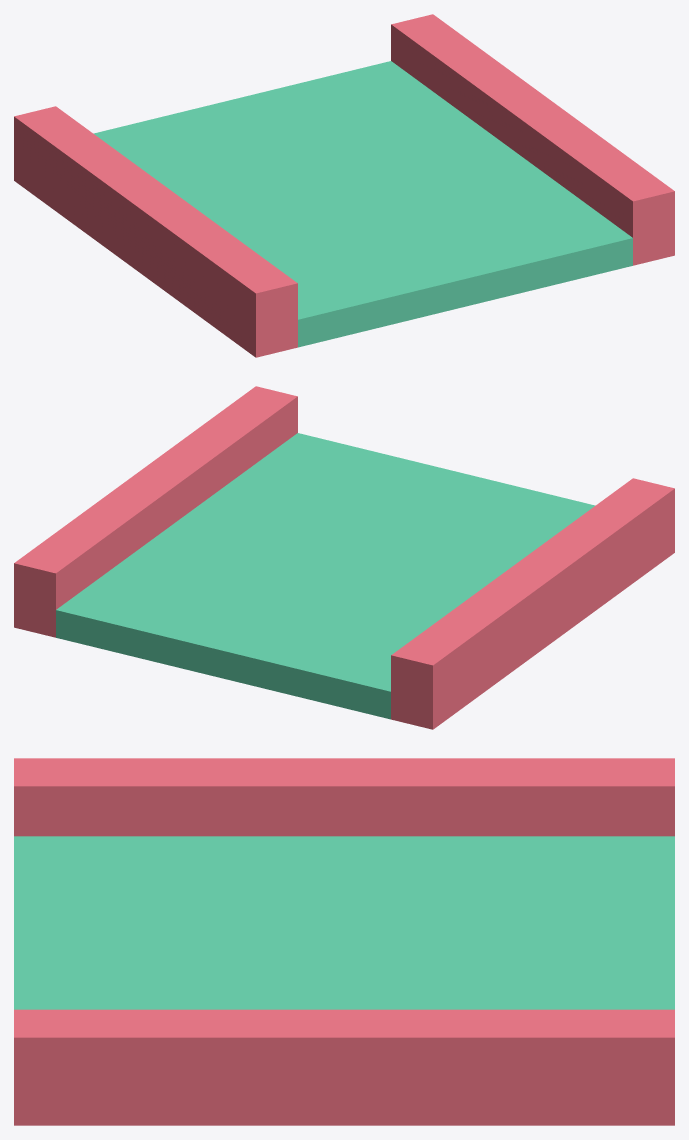
Rendered from straight.glb.
3 renders of one model, top to bottom at view 1: azimuth 30°, elevation 25°; view 2: azimuth 150°, elevation 25°; view 3: azimuth 270°, elevation 25°, orthographic. The views are drawn at different scales.
Visible parts, largest first — view 1: straight; view 2: straight; view 3: straight.
Boxes of the visible parts, x1,y1,x2,y2 form: straight: (14, 14, 674, 357); straight: (14, 386, 674, 729); straight: (14, 758, 674, 1125).
Bounding box in the file's own units: 0.9999 × 0.1466 × 0.9999.
